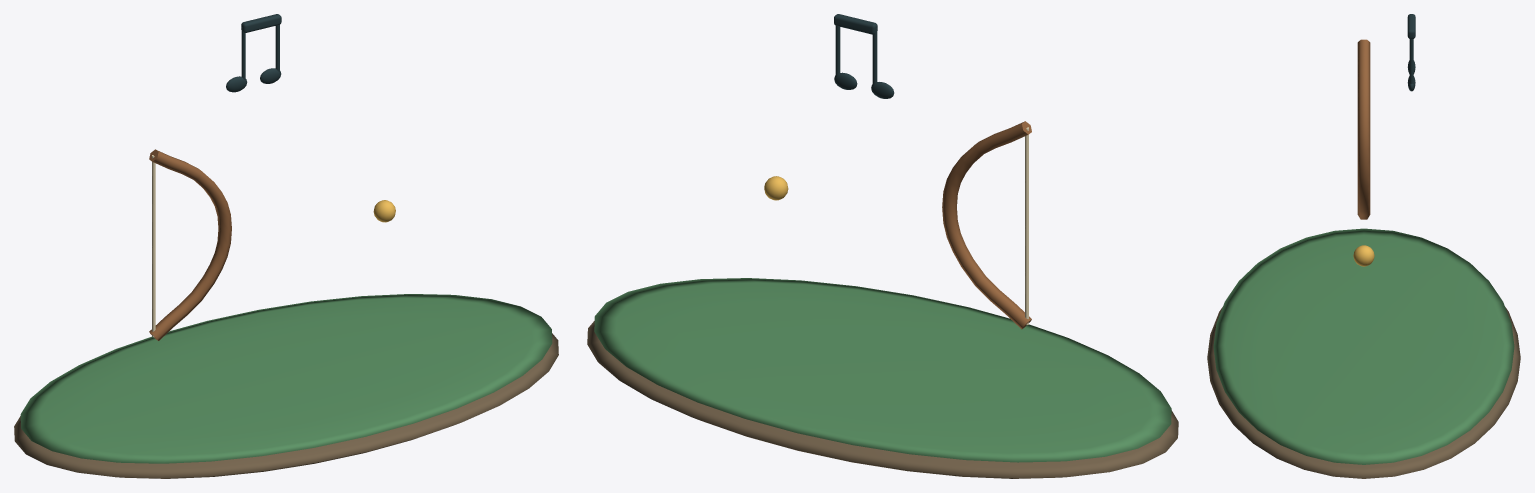
Rendered from complete-third-single-bow-string.glb.
The picture shows the model from 3 angles, left to right: view 1: azimuth 30°, elevation 25°; view 2: azimuth 150°, elevation 25°; view 3: azimuth 270°, elevation 25°; orthographic projection. The views are drawn at different scales.
Visible parts, largest first — view 1: complete-third-single-bow-string_surface_01, complete-third-single-bow-string_surface_00, complete-third-single-bow-string_surface_02, complete-third-single-bow-string_surface_05, complete-third-single-bow-string_surface_03; view 2: complete-third-single-bow-string_surface_01, complete-third-single-bow-string_surface_00, complete-third-single-bow-string_surface_02, complete-third-single-bow-string_surface_05, complete-third-single-bow-string_surface_03; view 3: complete-third-single-bow-string_surface_01, complete-third-single-bow-string_surface_00, complete-third-single-bow-string_surface_02, complete-third-single-bow-string_surface_05, complete-third-single-bow-string_surface_04.
Boxes of the visible parts, box(x1,y1,x2,y2) form: complete-third-single-bow-string_surface_01: box(20, 294, 552, 463); complete-third-single-bow-string_surface_00: box(14, 333, 558, 478); complete-third-single-bow-string_surface_02: box(149, 149, 231, 340); complete-third-single-bow-string_surface_05: box(226, 14, 281, 92); complete-third-single-bow-string_surface_03: box(152, 155, 155, 337); complete-third-single-bow-string_surface_01: box(594, 278, 1171, 462); complete-third-single-bow-string_surface_00: box(587, 321, 1178, 478); complete-third-single-bow-string_surface_02: box(942, 121, 1031, 329); complete-third-single-bow-string_surface_05: box(834, 14, 894, 98); complete-third-single-bow-string_surface_03: box(1025, 127, 1028, 324); complete-third-single-bow-string_surface_01: box(1213, 228, 1514, 464); complete-third-single-bow-string_surface_00: box(1207, 307, 1520, 478); complete-third-single-bow-string_surface_02: box(1357, 39, 1370, 219); complete-third-single-bow-string_surface_05: box(1407, 14, 1415, 91); complete-third-single-bow-string_surface_04: box(1353, 245, 1374, 266).
Size of the model in its own units: 4.56 by 3.09 by 2.5.
